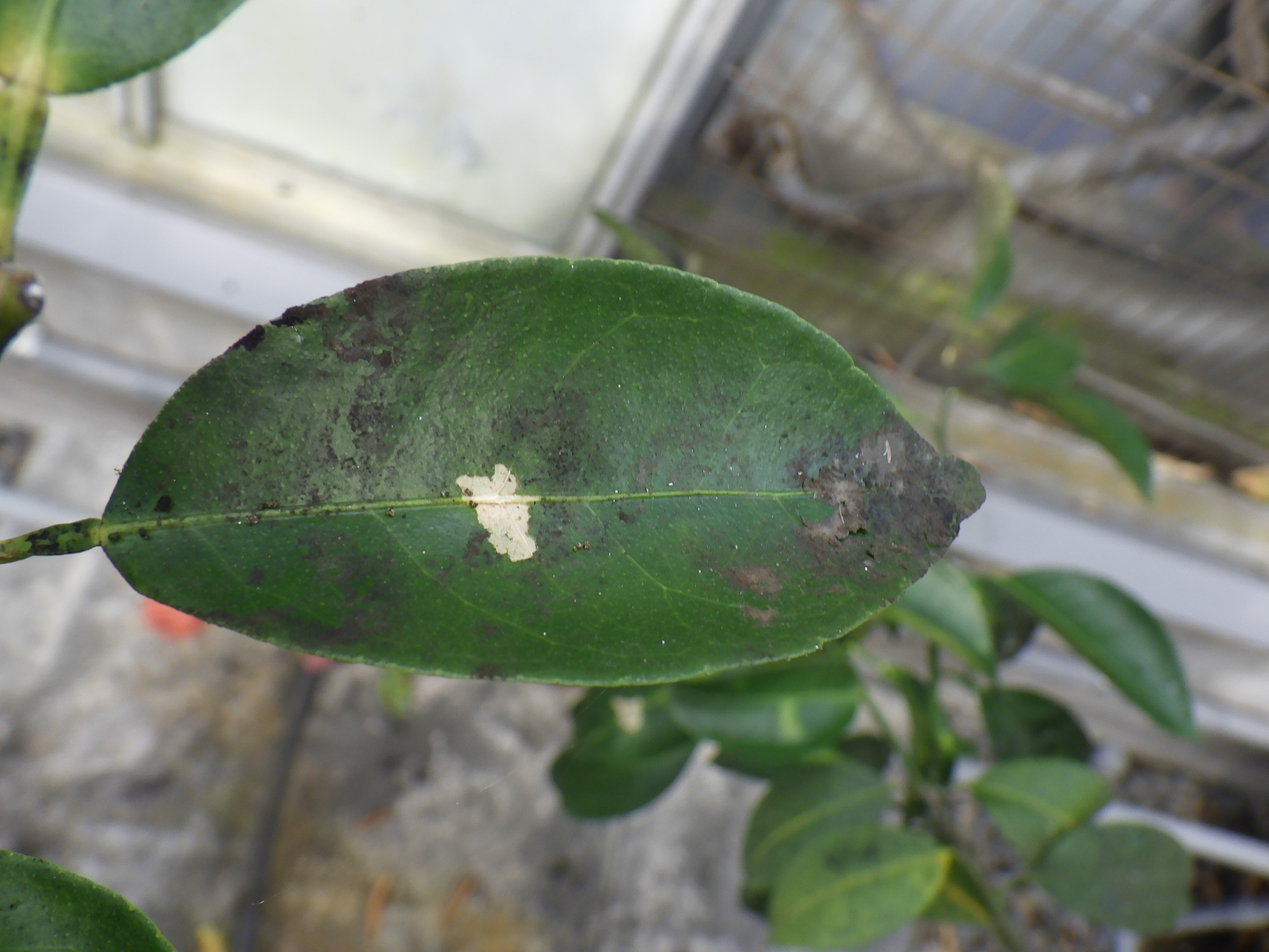Sooty_Mold: (0, 257, 983, 685)
